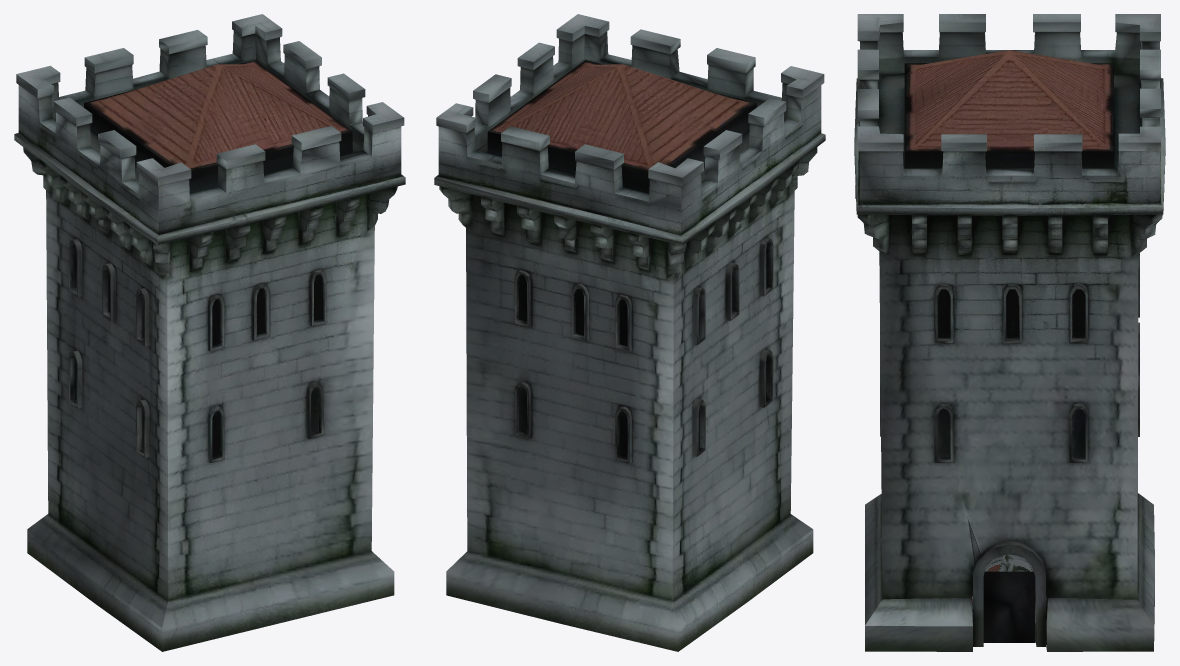
File: tower.glb
The picture shows the model from 3 angles, left to right: view 1: azimuth 30°, elevation 25°; view 2: azimuth 150°, elevation 25°; view 3: azimuth 270°, elevation 25°; orthographic projection. The views are drawn at different scales.
Visible parts, largest first — view 1: model; view 2: model; view 3: model.
Boxes of the visible parts, left/top/right/bottom form: model: left=14, top=14, right=405, bottom=651; model: left=434, top=14, right=825, bottom=651; model: left=854, top=14, right=1165, bottom=651.
Size of the model in its own units: 0.5225 by 1 by 0.5186.
Materials: 1 (1 with a texture image).
